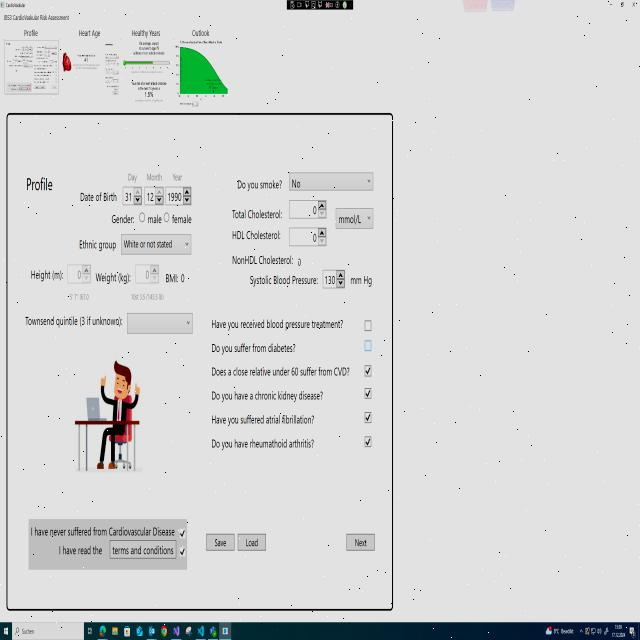button: (109, 538, 176, 560), (341, 532, 381, 557), (203, 527, 236, 555), (237, 530, 270, 557), (629, 0, 640, 9), (617, 0, 627, 9), (607, 0, 616, 9)
checkbox: (362, 403, 378, 426), (360, 384, 375, 405), (362, 360, 377, 379), (361, 336, 374, 357), (178, 519, 190, 541), (361, 314, 375, 332), (362, 432, 374, 451), (178, 544, 188, 564)
dropdownMenu: (288, 170, 376, 196), (126, 307, 196, 338), (120, 233, 193, 256), (334, 205, 376, 231), (553, 625, 584, 636)
icon: (111, 624, 119, 638), (136, 624, 144, 638), (172, 625, 180, 638), (209, 625, 217, 638), (123, 625, 131, 637), (99, 625, 106, 638), (87, 624, 93, 638), (148, 625, 155, 637), (197, 625, 204, 637), (630, 626, 636, 640), (545, 625, 553, 635), (161, 625, 167, 638), (186, 625, 192, 637), (3, 626, 9, 635), (604, 626, 609, 636), (590, 628, 596, 636), (596, 627, 602, 635), (585, 626, 589, 636)
input: (12, 622, 84, 640)
label: (224, 168, 285, 246), (225, 252, 321, 294), (23, 311, 124, 338), (208, 314, 344, 332), (29, 522, 176, 538), (210, 437, 316, 454), (210, 366, 351, 378), (210, 389, 325, 403), (211, 413, 318, 427), (210, 340, 300, 355), (20, 172, 66, 200), (1, 10, 74, 26), (20, 262, 64, 286), (54, 543, 104, 564), (349, 264, 379, 296), (77, 236, 118, 257), (94, 267, 132, 289), (77, 187, 118, 206), (124, 24, 166, 38), (163, 268, 192, 288), (128, 289, 167, 303), (76, 23, 108, 39), (172, 212, 196, 232), (185, 22, 213, 38), (110, 213, 136, 229), (66, 290, 93, 304), (148, 211, 162, 230), (145, 171, 165, 183), (127, 168, 139, 184), (24, 28, 42, 38), (172, 170, 185, 183)
menu: (0, 621, 639, 640)
radio: (163, 212, 170, 222), (139, 212, 145, 223)
tabControl: (219, 622, 231, 639)
upDown: (288, 227, 328, 250), (287, 198, 328, 220), (322, 265, 347, 294), (135, 261, 160, 288), (66, 260, 92, 285), (165, 185, 193, 208), (144, 185, 166, 208), (122, 186, 143, 207)
